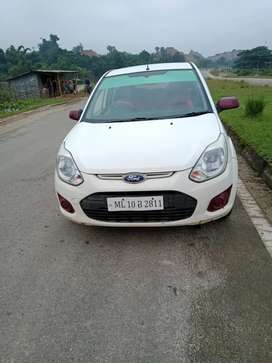ML1032811: (106, 196, 163, 211)
